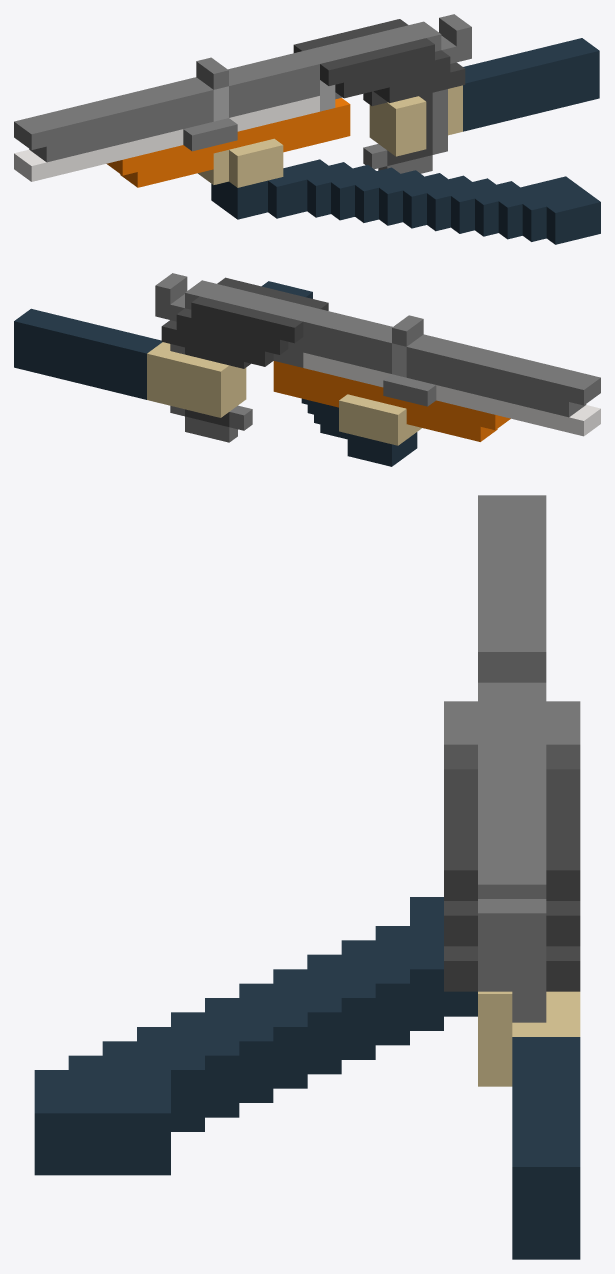
The model's file is shotgun.dae.
3 renders of one model, top to bottom at view 1: azimuth 30°, elevation 25°; view 2: azimuth 150°, elevation 25°; view 3: azimuth 270°, elevation 25°, orthographic. The views are drawn at different scales.
Parts seen in each view (by area): view 1: node; view 2: node; view 3: node.
Part boxes in pixels (x1,y1,x2,y2): node: [14, 14, 600, 244]; node: [14, 273, 600, 466]; node: [34, 495, 580, 1259].
Bounding box in the file's own units: 57 × 15 × 24.
